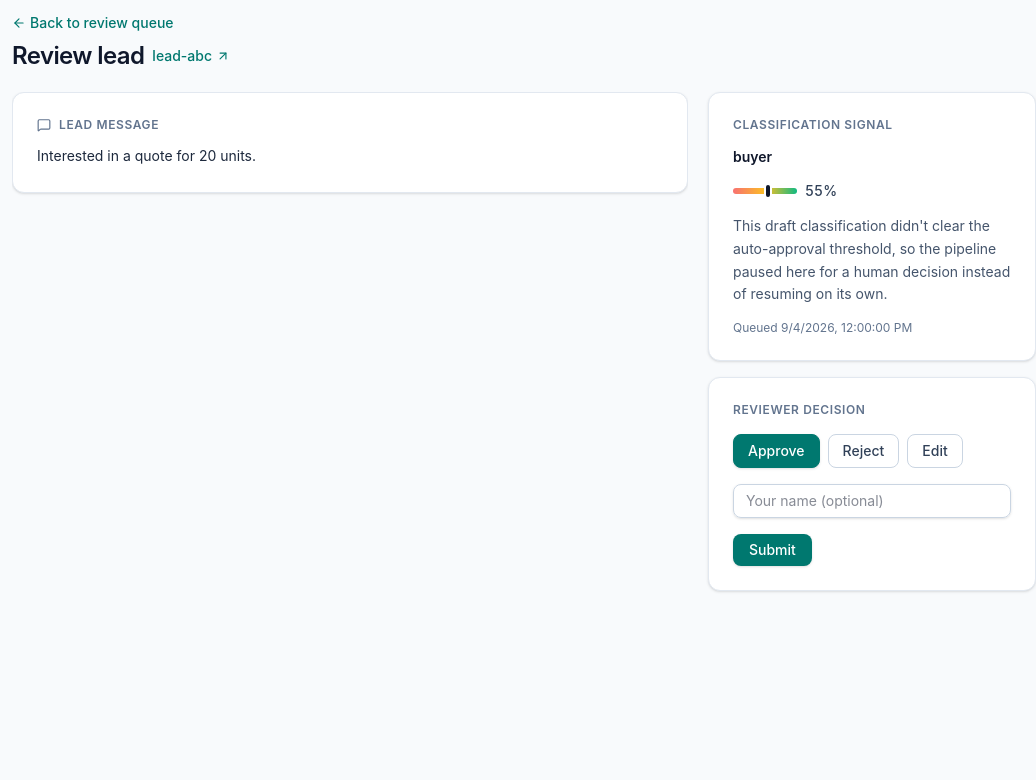
Test case: ReviewDetailPage › blocks an edit submission with no corrected label
Expected: the text "buyer" is shown, [733,147,772,167]
Click the radio button labelled "Edit".
click(935, 451)  # box [907,434,963,468]
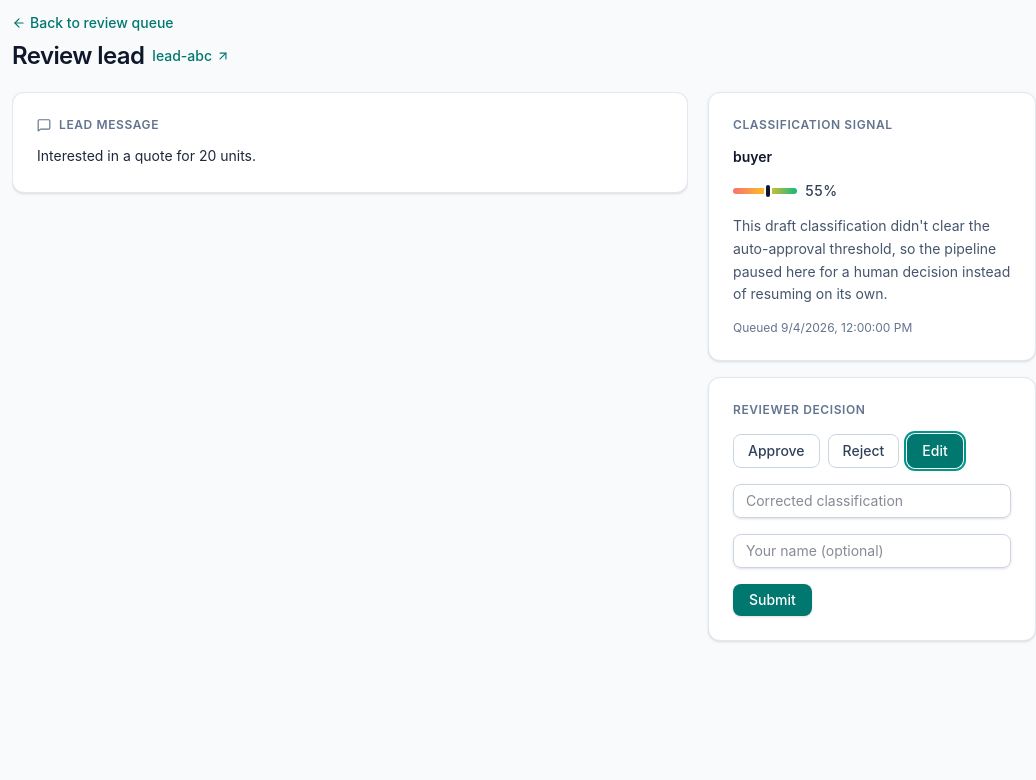
Click the button "Submit".
click(772, 600)  # box [733,584,812,616]
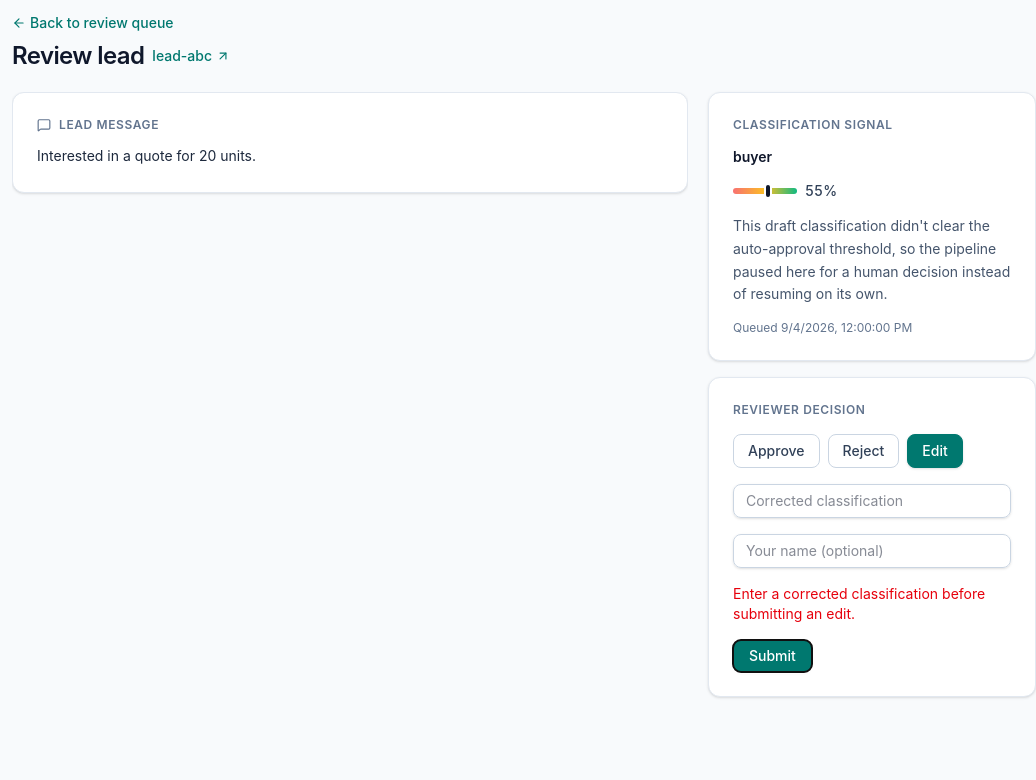
Expected: the text "Enter a corrected classification before submitting an edit." is shown, [733,584,1011,624]
